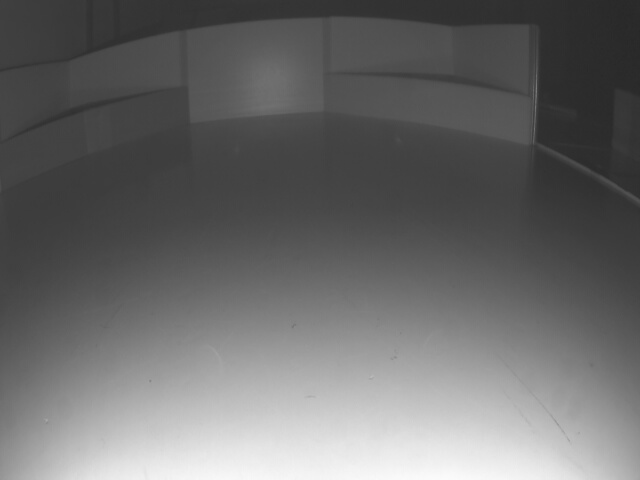Point: (0, 88, 189, 192), (325, 71, 531, 146)
